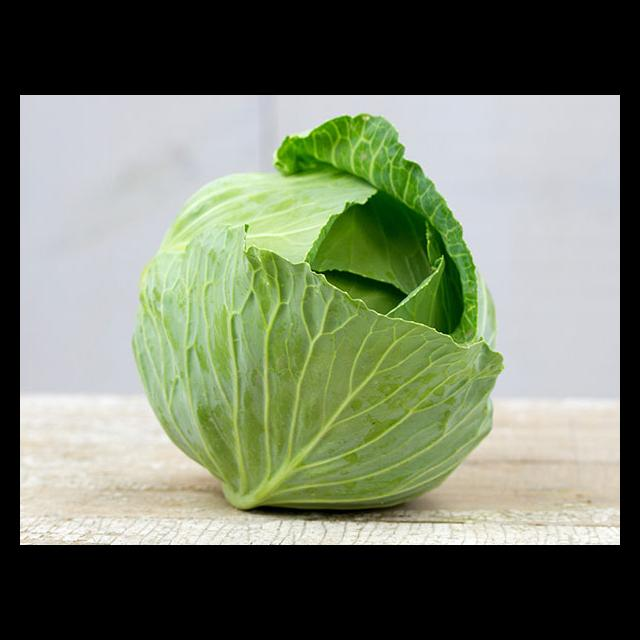cabbage: (89, 121, 560, 532)
